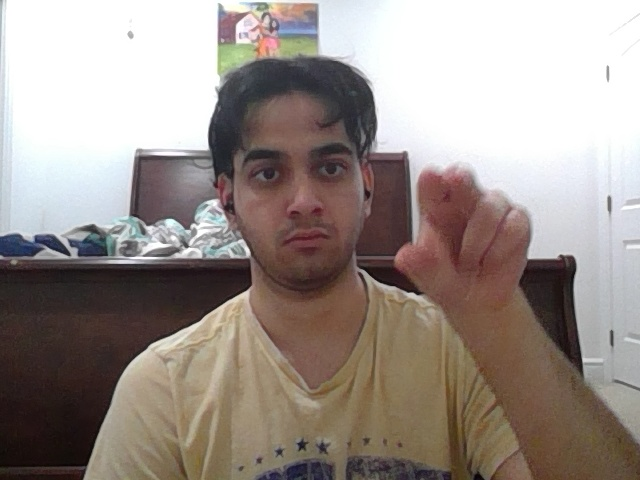No: (394, 165, 545, 315)
